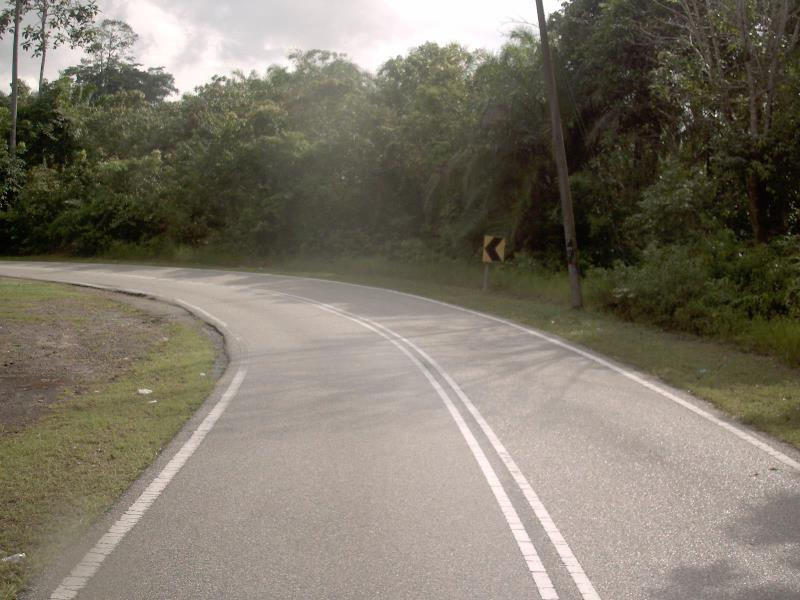traffic_sign: (473, 225, 512, 271)
